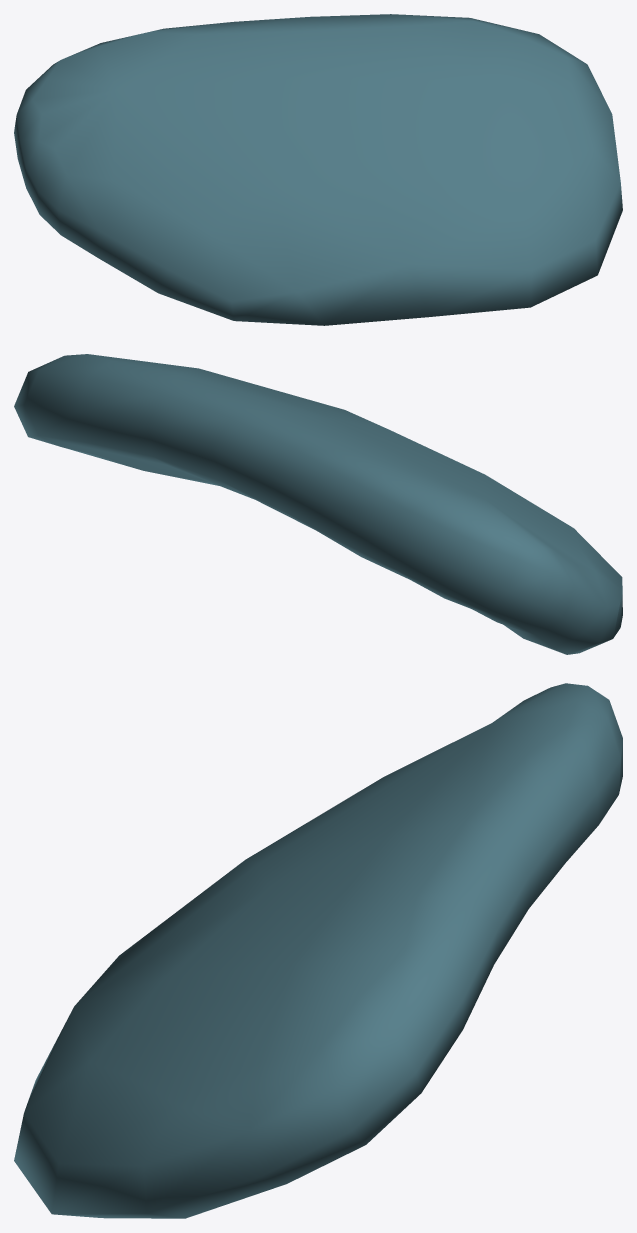
Rendered from Extensor_digitorum_longus_&_brevis_on_3d_distal_phalanx.r_Gener.glb.
The picture shows the model from 3 angles, top to bottom: view 1: azimuth 30°, elevation 25°; view 2: azimuth 150°, elevation 25°; view 3: azimuth 270°, elevation 25°; orthographic projection. The views are drawn at different scales.
Visible parts, largest first — view 1: Extensor_digitorum_longus_&_brevis_on_3d_distal_phalanx.r_Ge; view 2: Extensor_digitorum_longus_&_brevis_on_3d_distal_phalanx.r_Ge; view 3: Extensor_digitorum_longus_&_brevis_on_3d_distal_phalanx.r_Ge.
Boxes of the visible parts, x1,y1,x2,y2 form: Extensor_digitorum_longus_&_brevis_on_3d_distal_phalanx.r_Ge: [14, 14, 622, 325]; Extensor_digitorum_longus_&_brevis_on_3d_distal_phalanx.r_Ge: [14, 354, 622, 654]; Extensor_digitorum_longus_&_brevis_on_3d_distal_phalanx.r_Ge: [14, 683, 622, 1218].
Bounding box in the file's own units: 0.00375 × 0.00137 × 0.00255.
